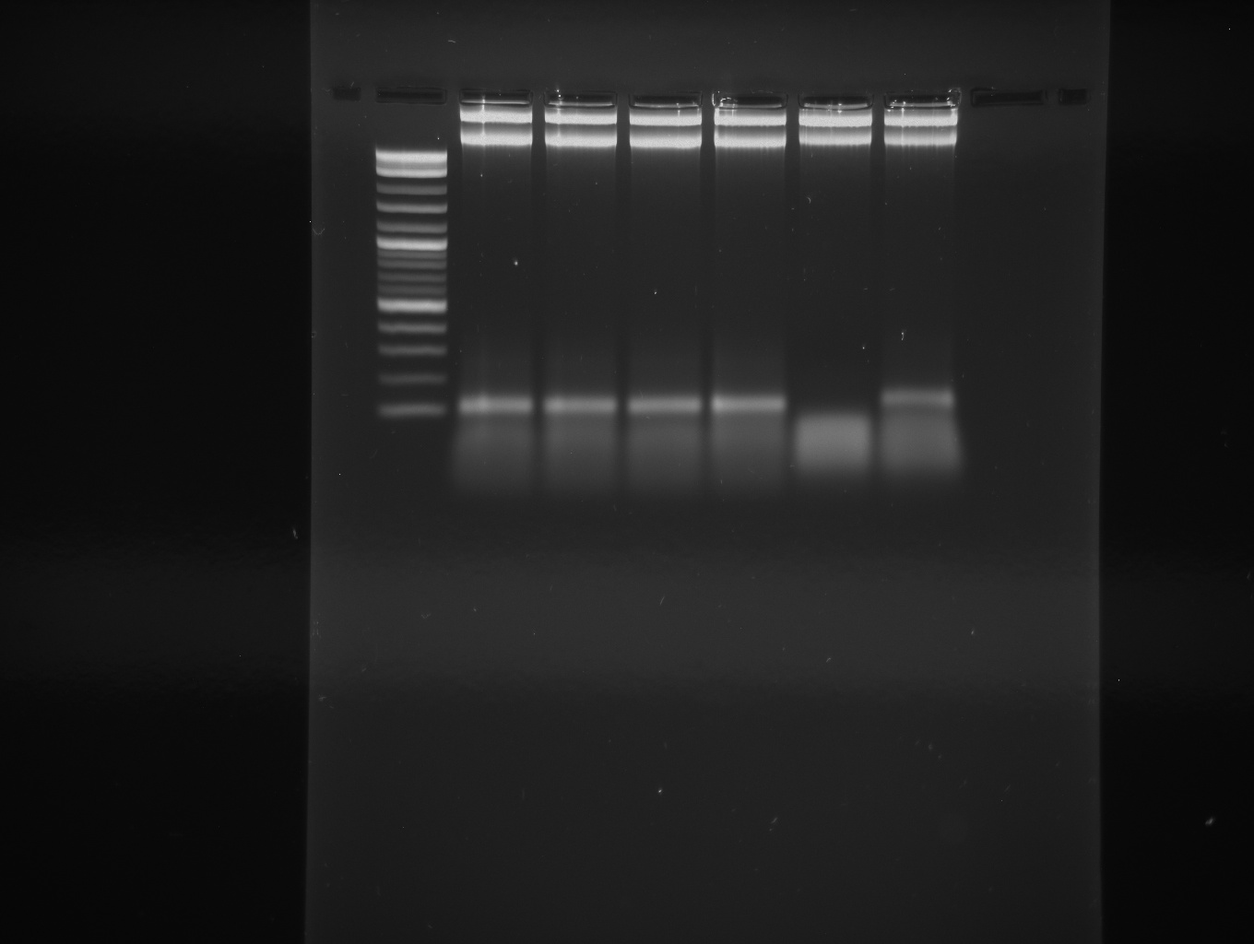Lane: (883, 94, 972, 944), (459, 85, 534, 944), (546, 76, 619, 944), (800, 92, 874, 944), (632, 86, 705, 944), (717, 93, 787, 920)
ladder: (364, 81, 447, 944)
